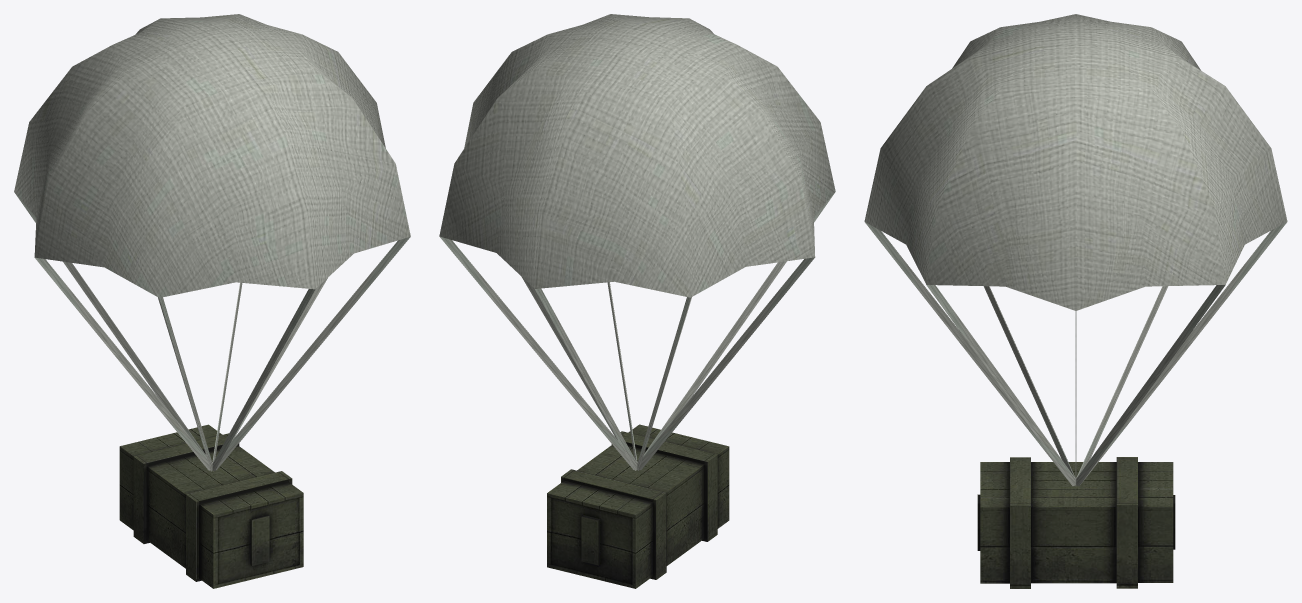
Rendered from kongtou.fbx.
3 views of the same model, side by side, from view 1: azimuth 30°, elevation 25°; view 2: azimuth 150°, elevation 25°; view 3: azimuth 270°, elevation 25° (orthographic). The views are drawn at different scales.
Parts seen in each view (by area): view 1: kongtou; view 2: kongtou; view 3: kongtou.
Part boxes in pixels (bbox=[...]): kongtou: bbox=[14, 14, 410, 588]; kongtou: bbox=[439, 14, 835, 588]; kongtou: bbox=[864, 14, 1287, 588].
Bounding box in the file's own units: 720 × 989 × 720.
2 materials, 2 textured.
